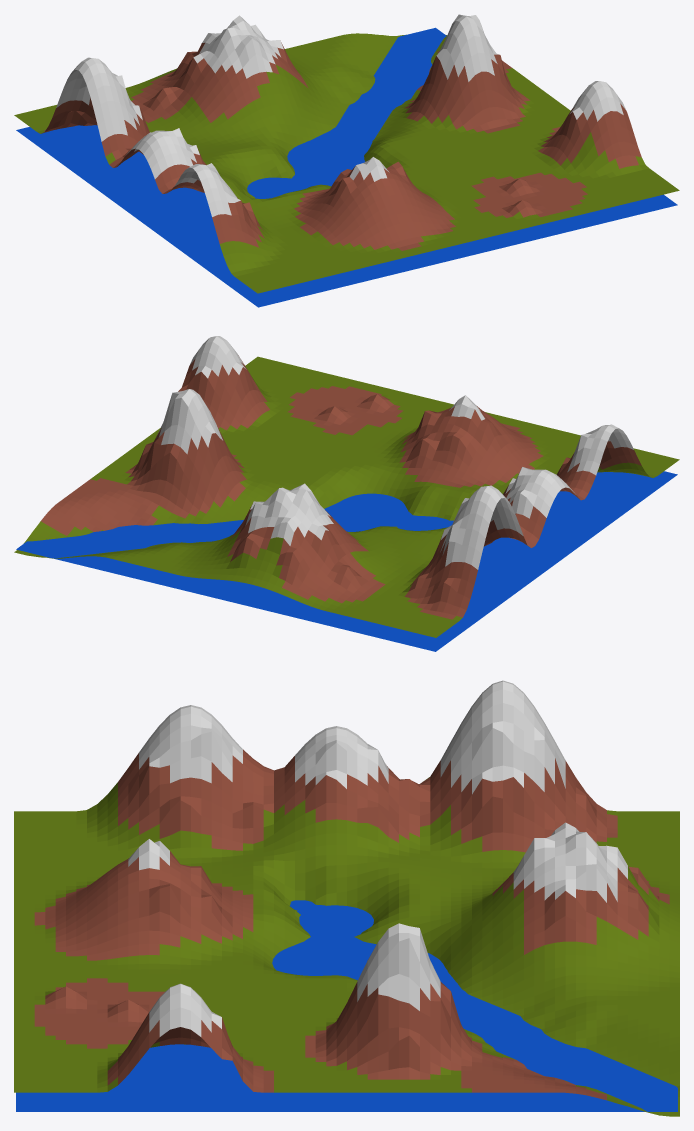
Rendered from Landscape Model.fbx.
The picture shows the model from 3 angles, top to bottom: view 1: azimuth 30°, elevation 25°; view 2: azimuth 150°, elevation 25°; view 3: azimuth 270°, elevation 25°; orthographic projection. The views are drawn at different scales.
Parts seen in each view (by area): view 1: Terrain; view 2: Terrain; view 3: Terrain.
Part boxes in pixels (<box>): Terrain: <box>14,14,679,307</box>; Terrain: <box>14,336,679,651</box>; Terrain: <box>14,680,679,1116</box>.
Bounding box in the file's own units: 20.58 × 6.82 × 20.58.
